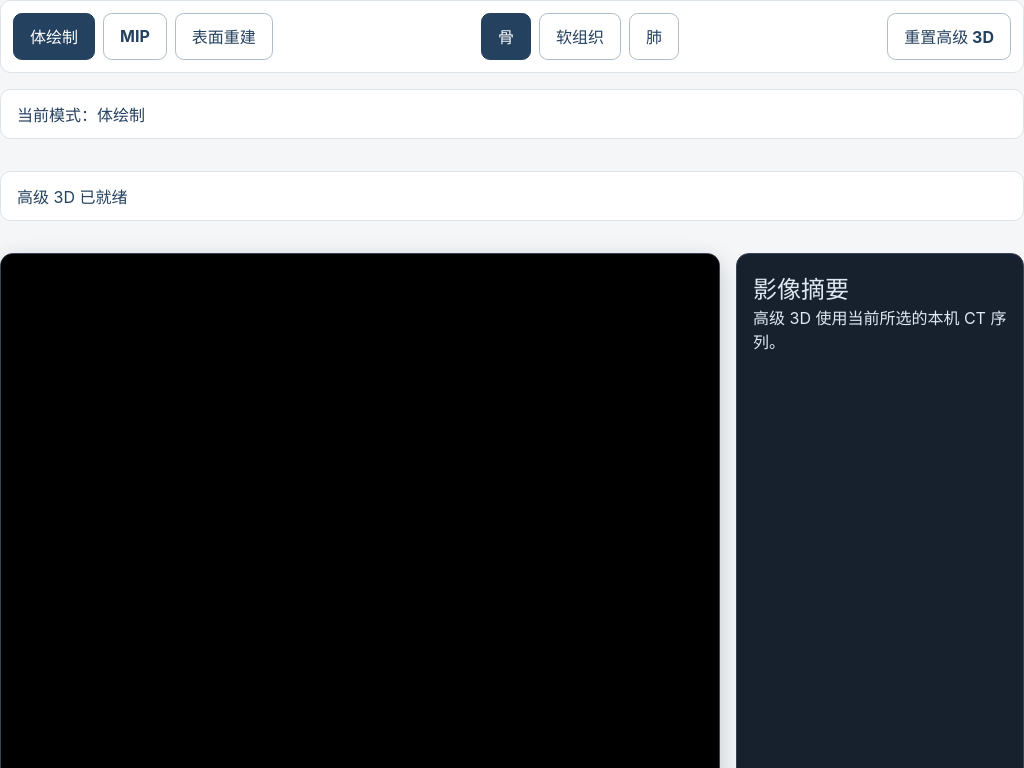
Scenario: applies volume presets, switches only the requested mode, and resets defaults
Click the button "软组织": (580, 36) [539,13,621,60]
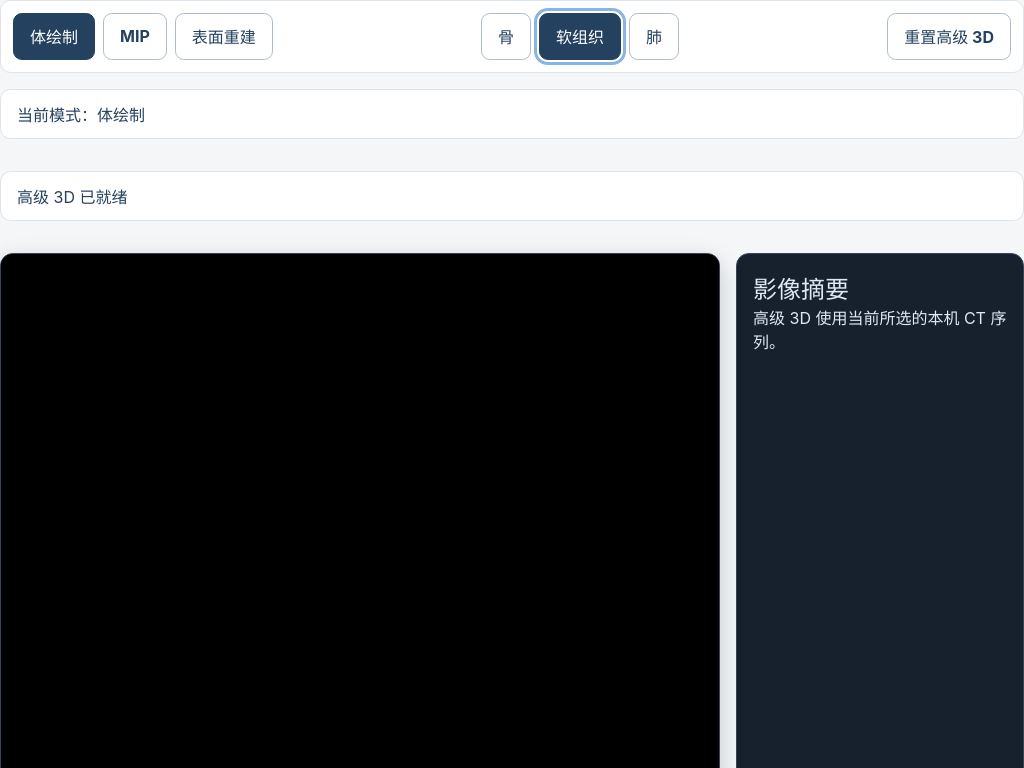
Expected: the button "软组织" is pressed, [539,13,621,60]
Click the button "表面重建": (224, 36) [175,13,273,60]
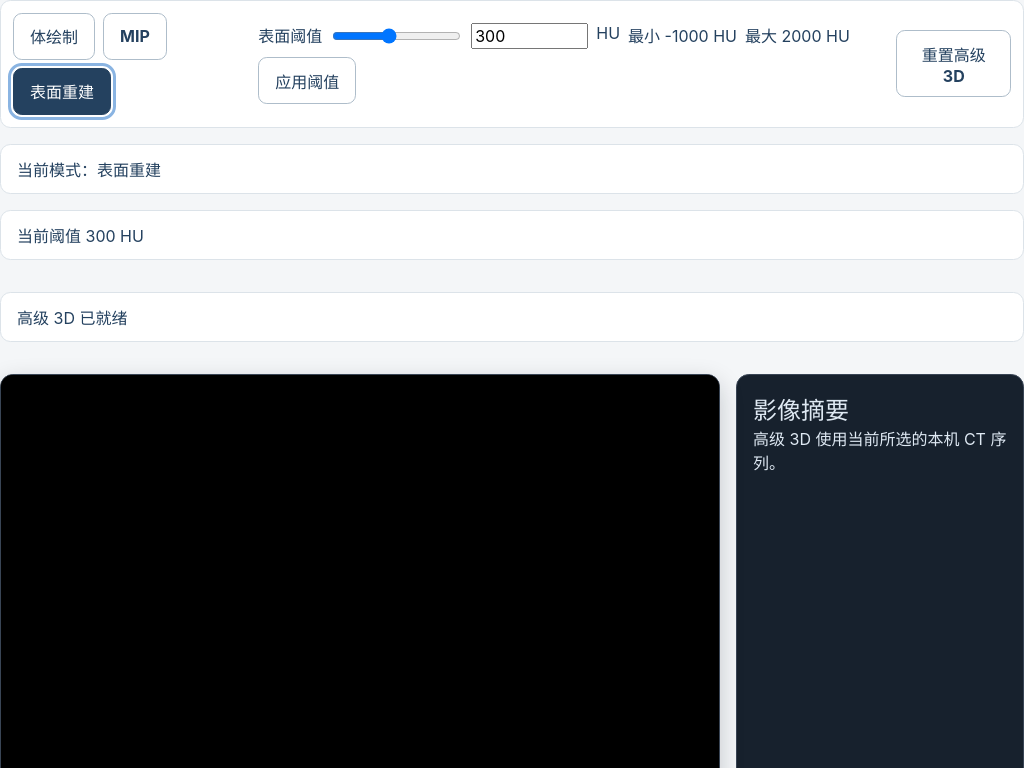
Expected: the text "当前模式：表面重建" is shown, [0,144,1023,194]
Expected: the text "当前阈值 300 HU" is shown, [0,210,1023,260]
Click the button "MIP": (135, 36) [103,13,167,60]
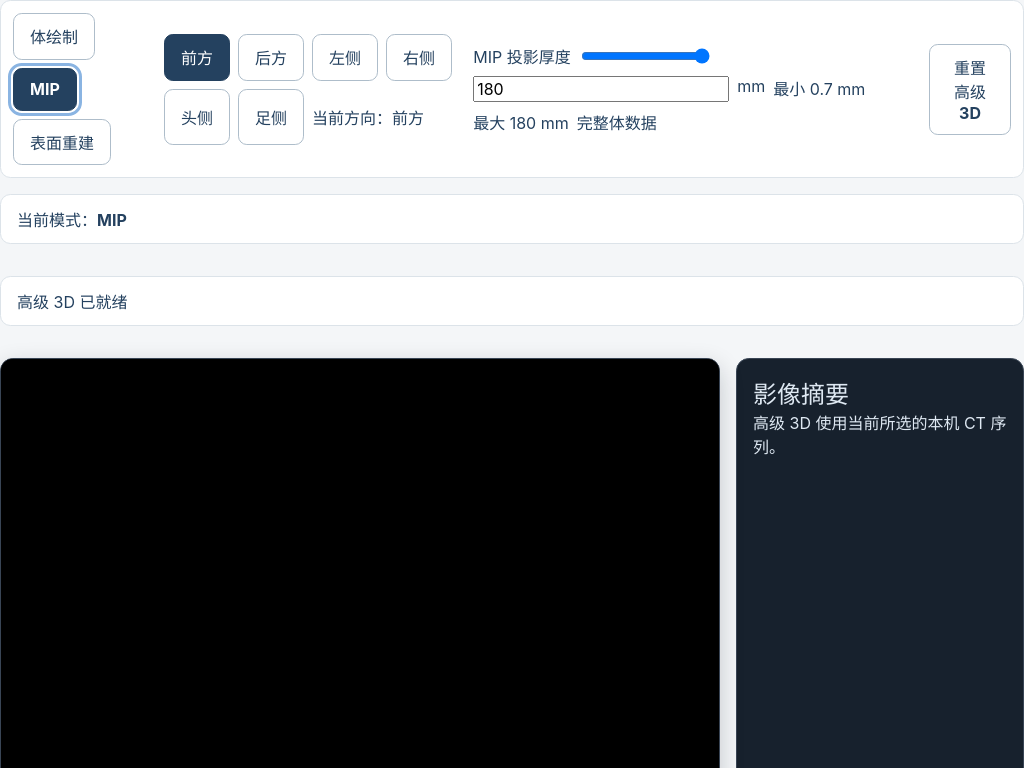
Expected: the text "当前模式：MIP" is shown, [0,194,1023,244]
Click the button "重置高级 3D": (970, 89) [929,44,1011,135]
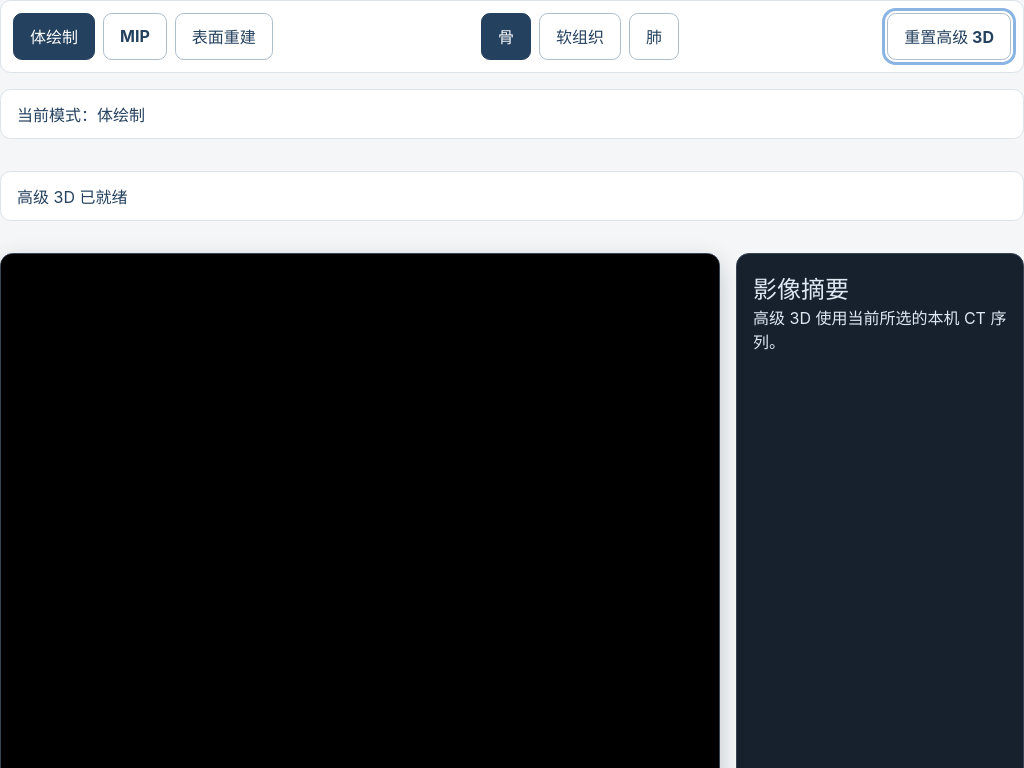
Expected: the text "当前模式：体绘制" is shown, [0,89,1023,139]
